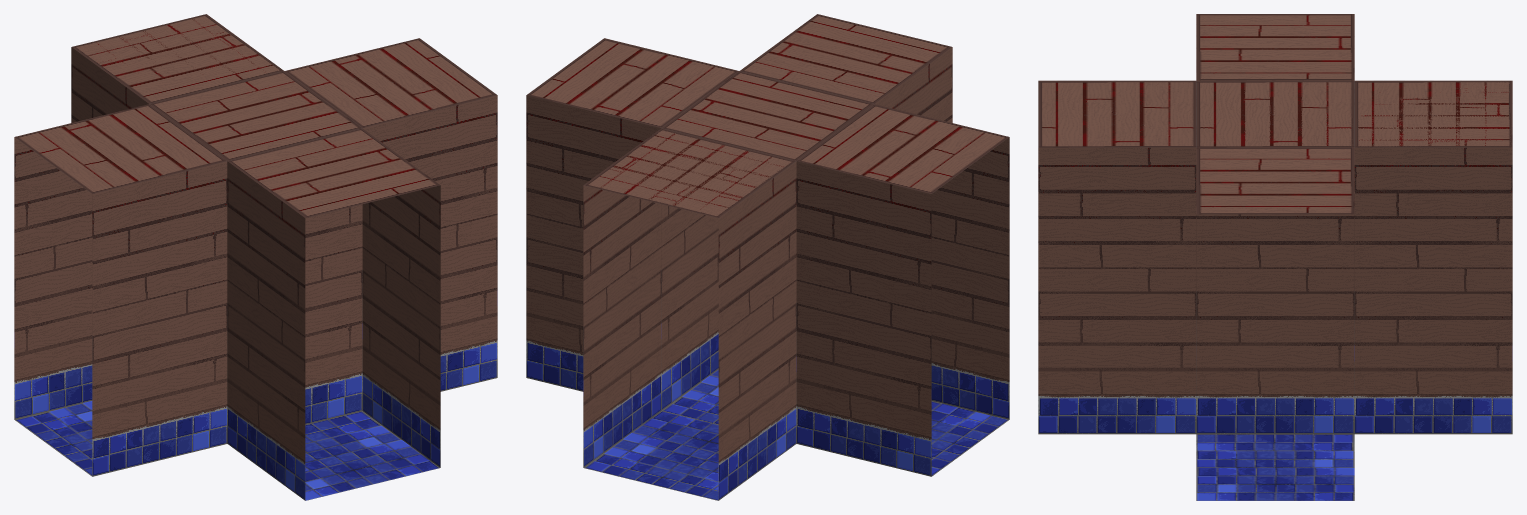
The model's file is SaunaWalls_1.fbx.
3 views of the same model, side by side, from view 1: azimuth 30°, elevation 25°; view 2: azimuth 150°, elevation 25°; view 3: azimuth 270°, elevation 25° (orthographic).
Visible parts, largest first — view 1: Room 4 Fourway, Room 2 Straight, Room 1 DeadEnd, Room 2 Corner; view 2: Room 1 DeadEnd, Room 4 Fourway, Room 2 Corner, Room 2 Straight; view 3: Room 1 DeadEnd, Room 2 Straight, Room 2 Corner, Room 4 Fourway.
Part boxes in pixels (x1,y1,x2,y2): Room 4 Fourway: (14,104,227,476); Room 2 Straight: (227,128,440,500); Room 1 DeadEnd: (71,14,362,424); Room 2 Corner: (73,14,497,391); Room 1 DeadEnd: (583,72,873,500); Room 4 Fourway: (796,104,1009,476); Room 2 Corner: (526,38,872,391); Room 2 Straight: (740,14,952,122); Room 1 DeadEnd: (1196,80,1512,434); Room 2 Straight: (1038,80,1196,434); Room 2 Corner: (1196,80,1512,500); Room 4 Fourway: (1196,14,1354,80).
Bounding box in the file's own units: 300 × 200 × 300.
